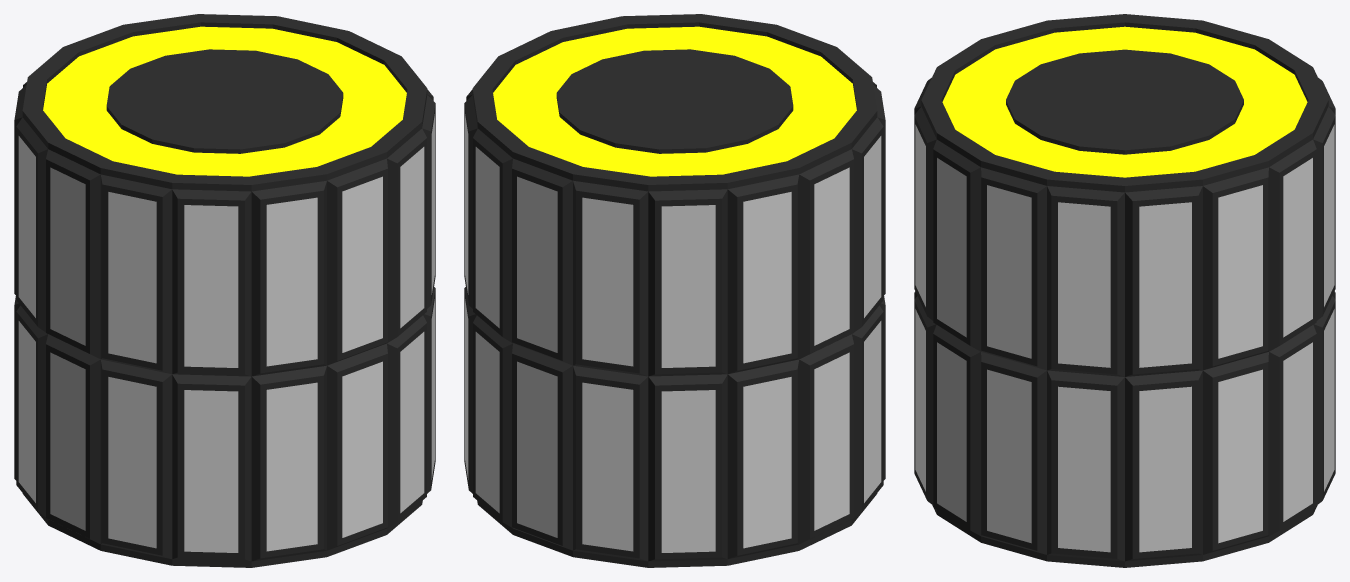
File: Vr Props - Cylinder.fbx
The picture shows the model from 3 angles, left to right: view 1: azimuth 30°, elevation 25°; view 2: azimuth 150°, elevation 25°; view 3: azimuth 270°, elevation 25°; orthographic projection.
Visible parts, largest first — view 1: Cylinder; view 2: Cylinder; view 3: Cylinder.
Boxes of the visible parts, bbox=[...] form: Cylinder: bbox=[14, 14, 435, 567]; Cylinder: bbox=[464, 14, 885, 567]; Cylinder: bbox=[914, 14, 1335, 567].
Bounding box in the file's own units: 207 × 207 × 207.
